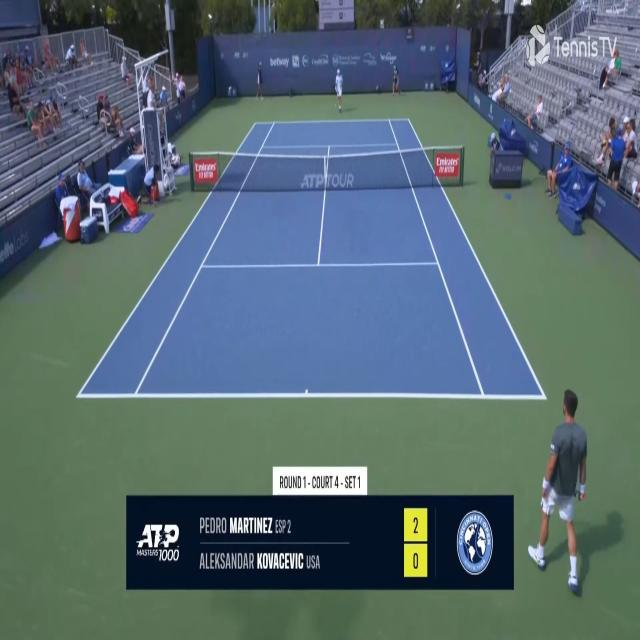tennis-player: (527, 383, 592, 601), (334, 65, 344, 113)
